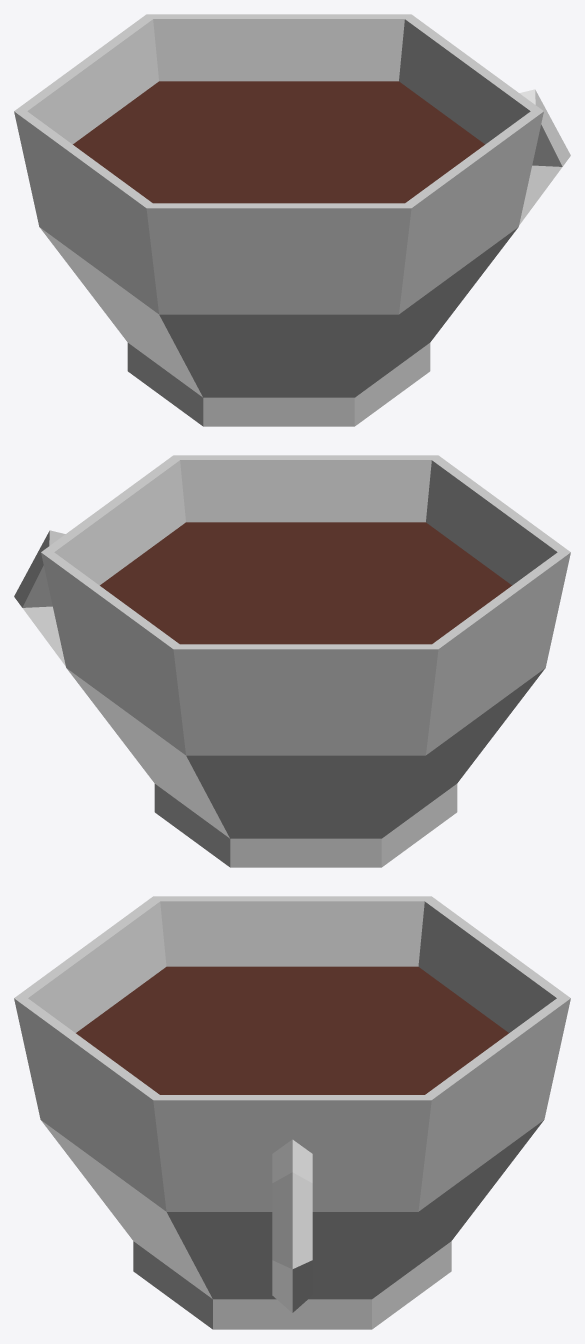
The model's file is Cup2Coffee.fbx.
3 views of the same model, one above another, from view 1: azimuth 30°, elevation 25°; view 2: azimuth 150°, elevation 25°; view 3: azimuth 270°, elevation 25° (orthographic). The views are drawn at different scales.
Parts seen in each view (by area): view 1: Cylinder; view 2: Cylinder; view 3: Cylinder.
Boxes of the visible parts, box(x1,y1,x2,y2) form: Cylinder: box(14, 14, 570, 426); Cylinder: box(14, 455, 570, 867); Cylinder: box(14, 896, 570, 1329).
Size of the model in its own units: 0.2667 by 0.135 by 0.2495.
